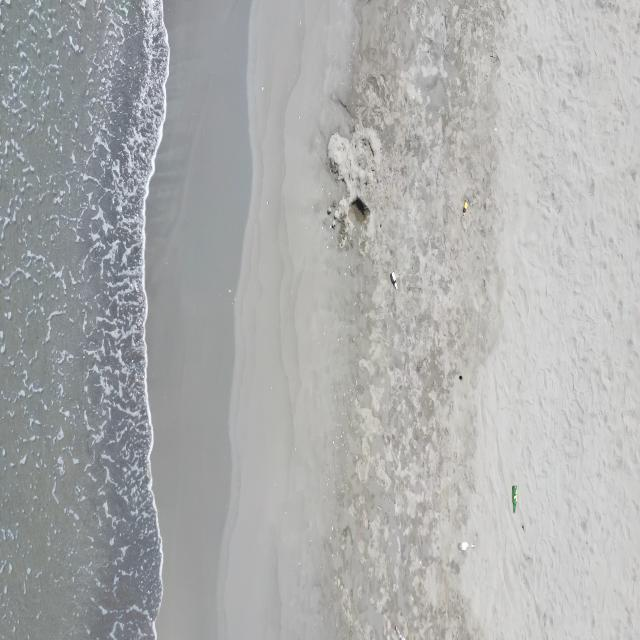glass: (511, 485, 518, 515), (395, 624, 406, 640), (458, 541, 475, 551), (390, 270, 398, 290), (462, 201, 469, 217)
